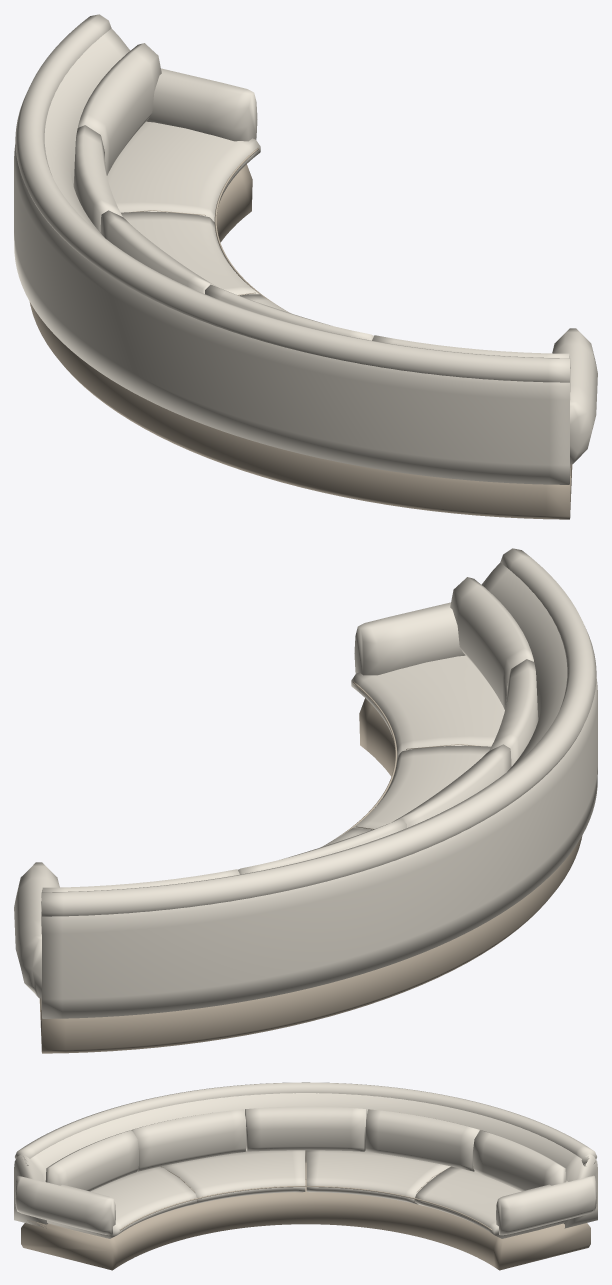
File: sofa_arc_cream.fbx
The picture shows the model from 3 angles, top to bottom: view 1: azimuth 30°, elevation 25°; view 2: azimuth 150°, elevation 25°; view 3: azimuth 270°, elevation 25°; orthographic projection. The views are drawn at different scales.
Parts seen in each view (by area): view 1: sofa_arc_cream; view 2: sofa_arc_cream; view 3: sofa_arc_cream.
Part boxes in pixels (box(x1,y1,x2,y2)): sofa_arc_cream: box(14, 14, 597, 519); sofa_arc_cream: box(14, 548, 597, 1053); sofa_arc_cream: box(14, 1082, 597, 1270).
Size of the model in its own units: 1.96 by 0.9 by 4.9.
